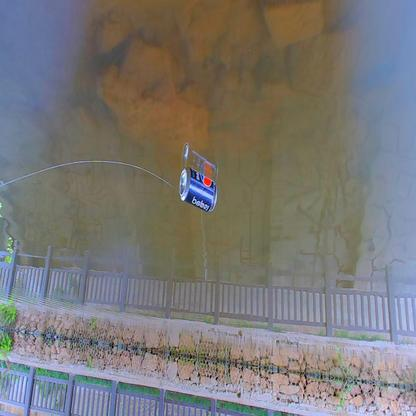can: (176, 167, 218, 214)
